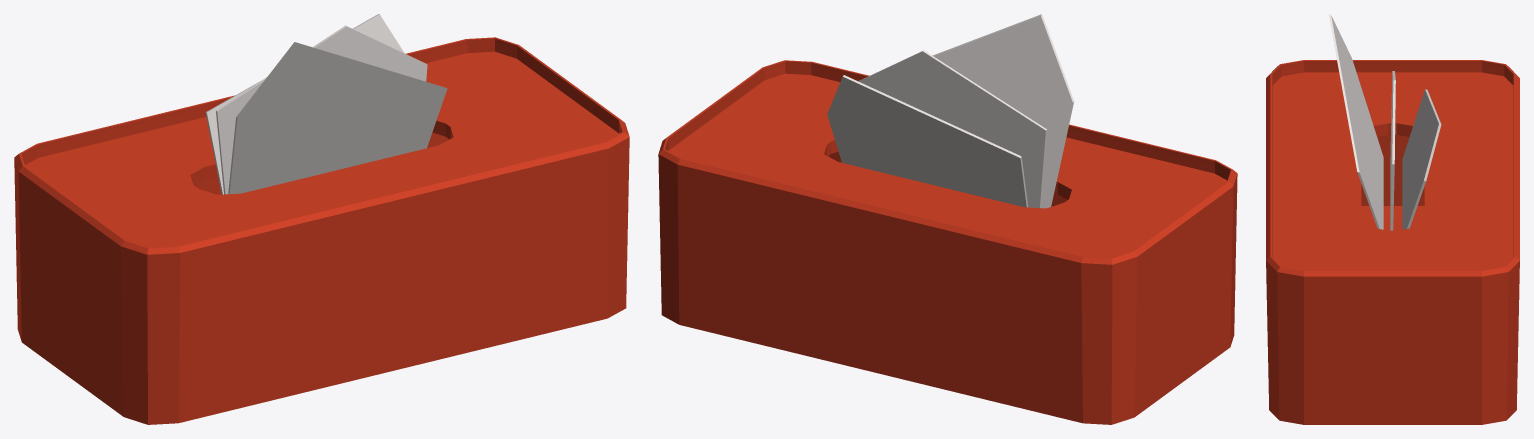
Rendered from SM_Cook_NapkinBox_01.obj.
3 renders of one model, left to right at view 1: azimuth 30°, elevation 25°; view 2: azimuth 150°, elevation 25°; view 3: azimuth 270°, elevation 25°, orthographic. The views are drawn at different scales.
Parts seen in each view (by area): view 1: SM_Cook_NapkinBox_01; view 2: SM_Cook_NapkinBox_01; view 3: SM_Cook_NapkinBox_01.
Part boxes in pixels (x1,y1,x2,y2): SM_Cook_NapkinBox_01: (14, 14, 629, 424); SM_Cook_NapkinBox_01: (658, 14, 1237, 424); SM_Cook_NapkinBox_01: (1266, 14, 1519, 424).
Bounding box in the file's own units: 0.24 × 0.145 × 0.12.
1 material, 1 textured.
